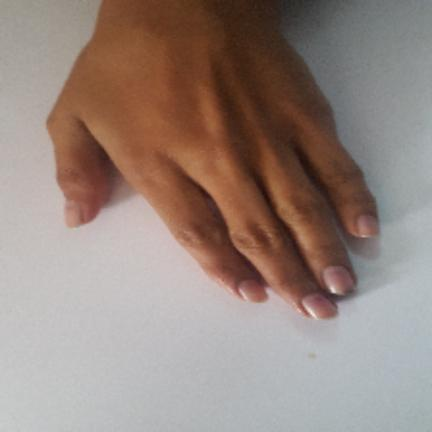Nail: (302, 293, 337, 321), (323, 266, 354, 295), (238, 278, 268, 303), (64, 201, 83, 229), (358, 215, 378, 237)
